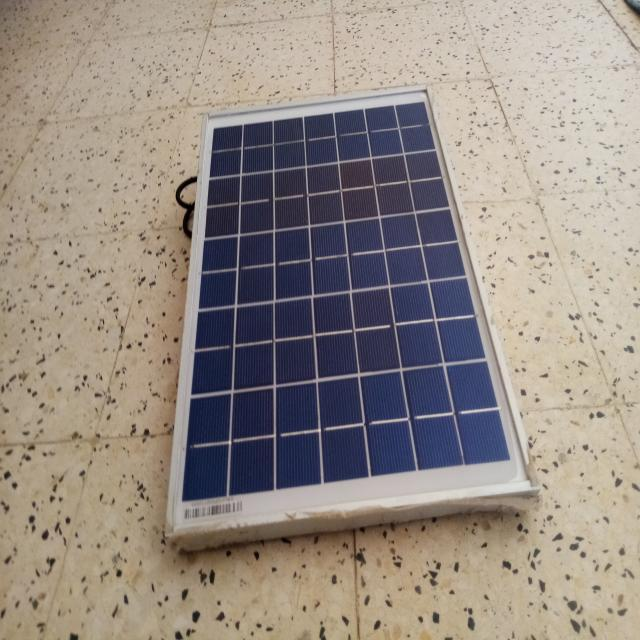no faulty: (169, 88, 538, 529)
